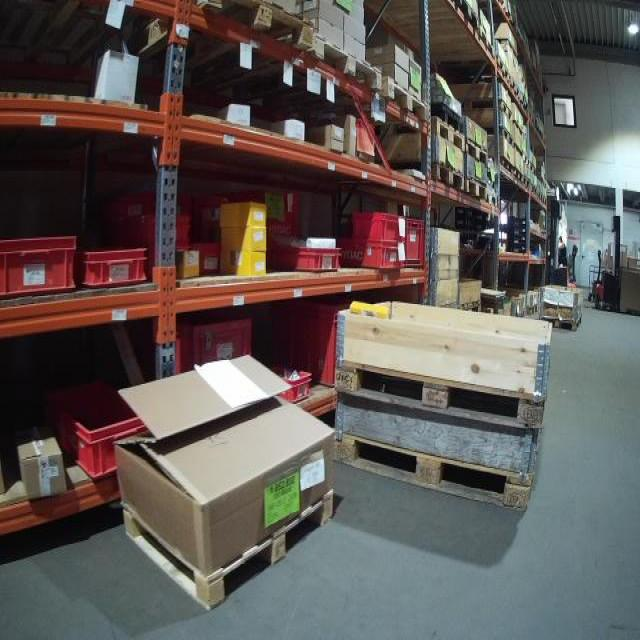pallet: (119, 482, 338, 611), (332, 357, 550, 430), (332, 432, 538, 506), (137, 0, 320, 82), (292, 34, 389, 99), (382, 155, 470, 194), (378, 73, 428, 119), (425, 3, 482, 43), (447, 95, 516, 117), (429, 112, 466, 151), (466, 127, 515, 149), (472, 25, 497, 63), (465, 174, 489, 207), (545, 313, 584, 331), (468, 138, 490, 161), (488, 159, 514, 178), (457, 300, 480, 311)
pallet_truck: (543, 195, 585, 297), (586, 210, 628, 308)
small_load_carrier: (54, 379, 151, 485), (293, 293, 378, 383), (103, 182, 193, 246), (1, 235, 75, 298), (200, 311, 260, 366), (80, 241, 150, 287), (157, 319, 200, 385), (260, 356, 315, 406), (251, 185, 307, 234), (267, 237, 338, 273), (140, 214, 190, 260), (333, 209, 404, 241), (341, 239, 401, 270), (200, 189, 234, 235), (403, 214, 428, 267), (195, 236, 224, 276)
